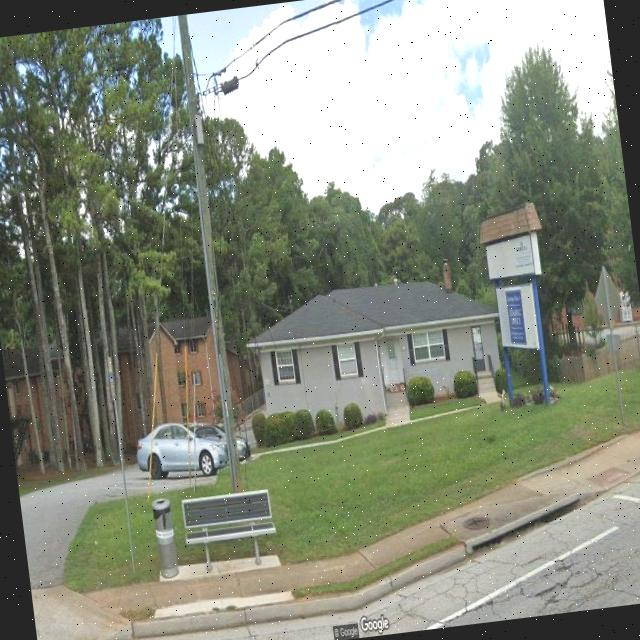seating: (179, 486, 281, 575)
trash_can: (151, 498, 180, 578)
